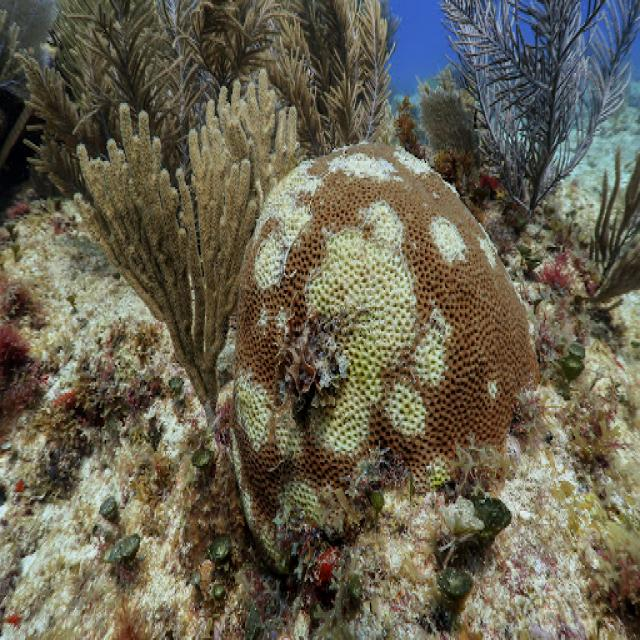Coral: (229, 141, 541, 573), (76, 66, 300, 422)
